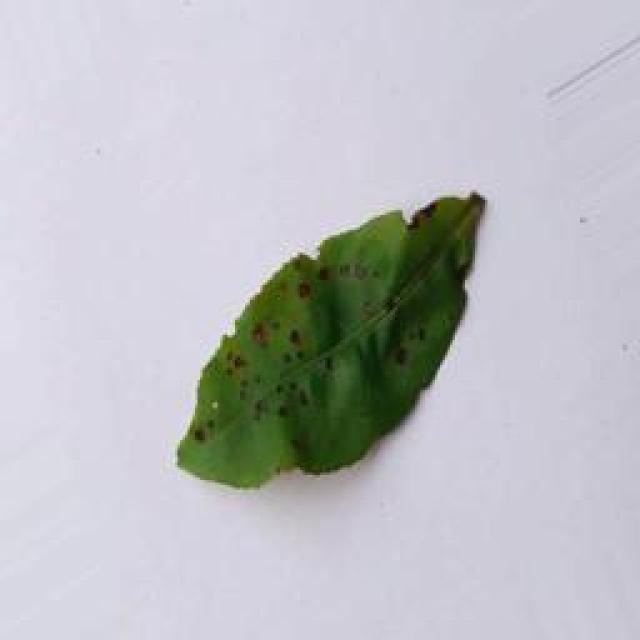Helopeltis: (180, 189, 493, 487)
